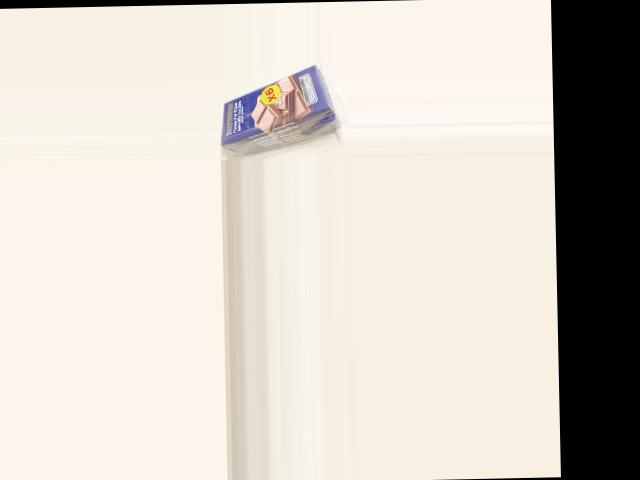chocolate: (219, 63, 333, 153)
